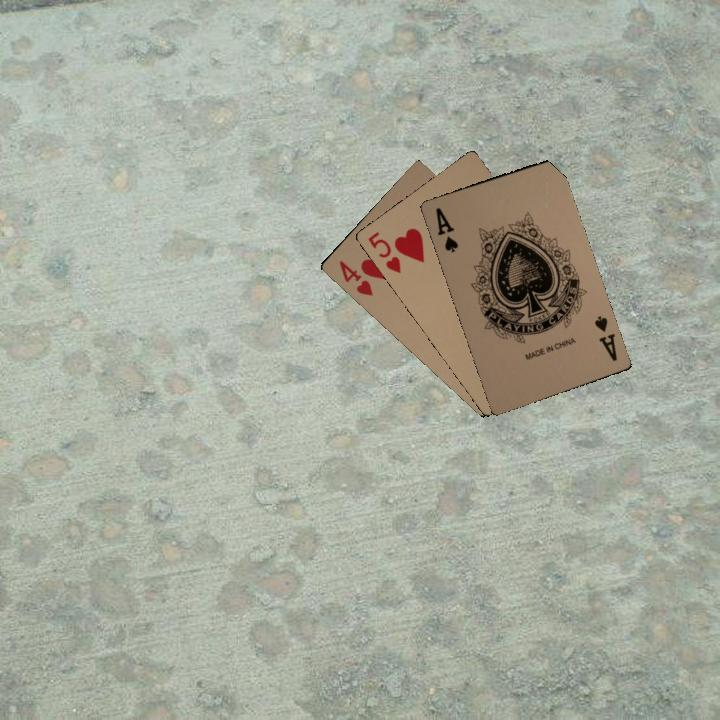4h: (335, 256, 375, 298)
5h: (364, 227, 404, 276)
As: (431, 203, 461, 255), (590, 312, 620, 364)
